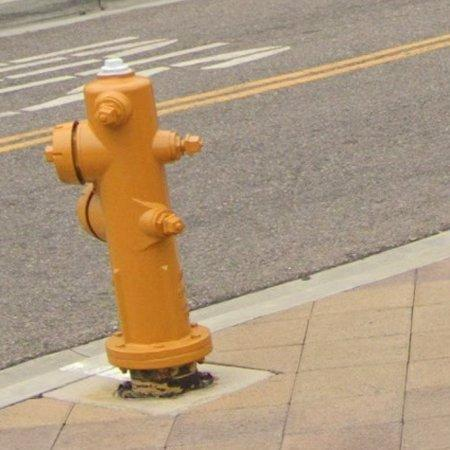a fire hydrant: (45, 58, 215, 401)
